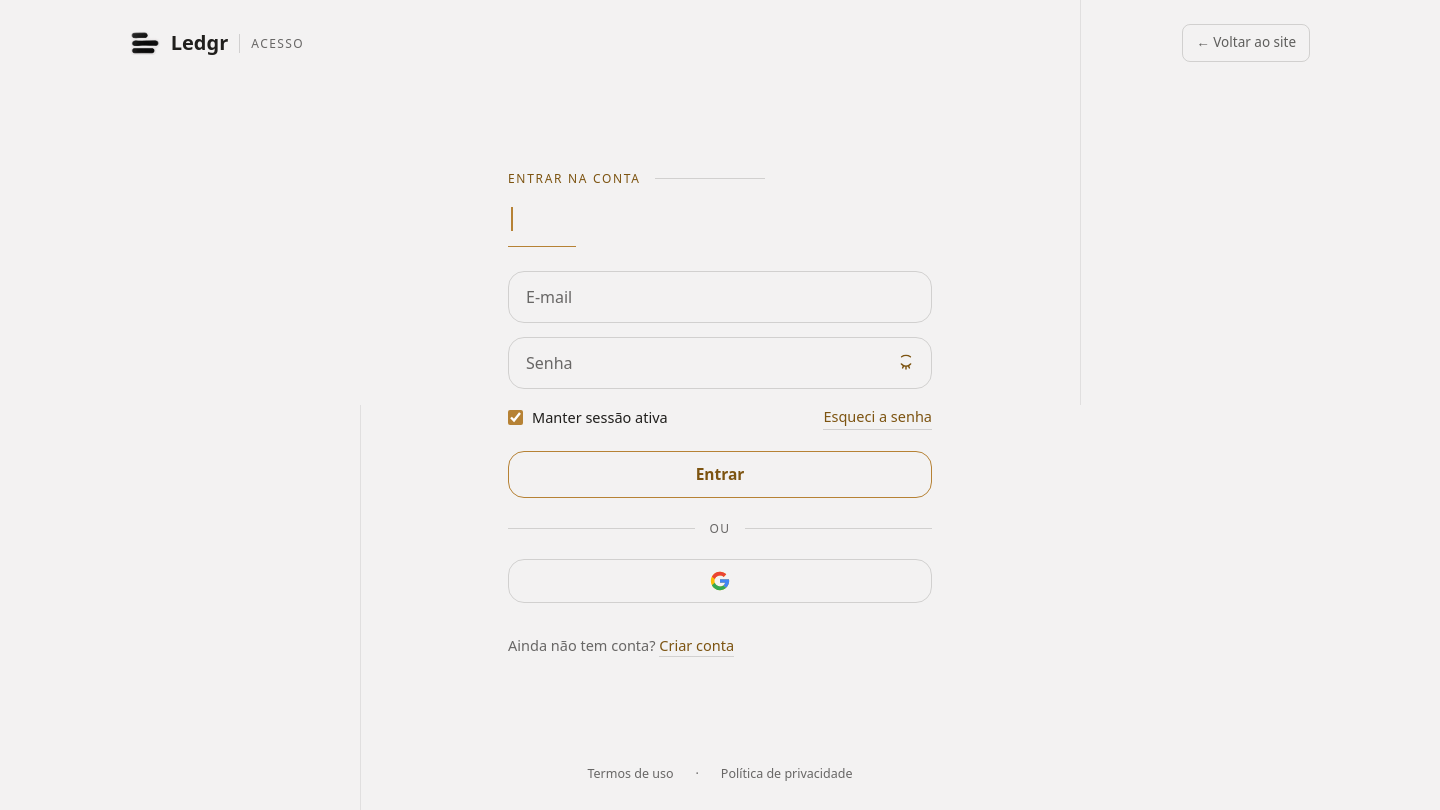
Test: LoginPage › goes to Google when Google sign-in is on
This screenshot has width=1440, height=810.
Click the button named "Entrar com Google" at [720, 581], box top-left (508, 559), bottom-right (932, 603)
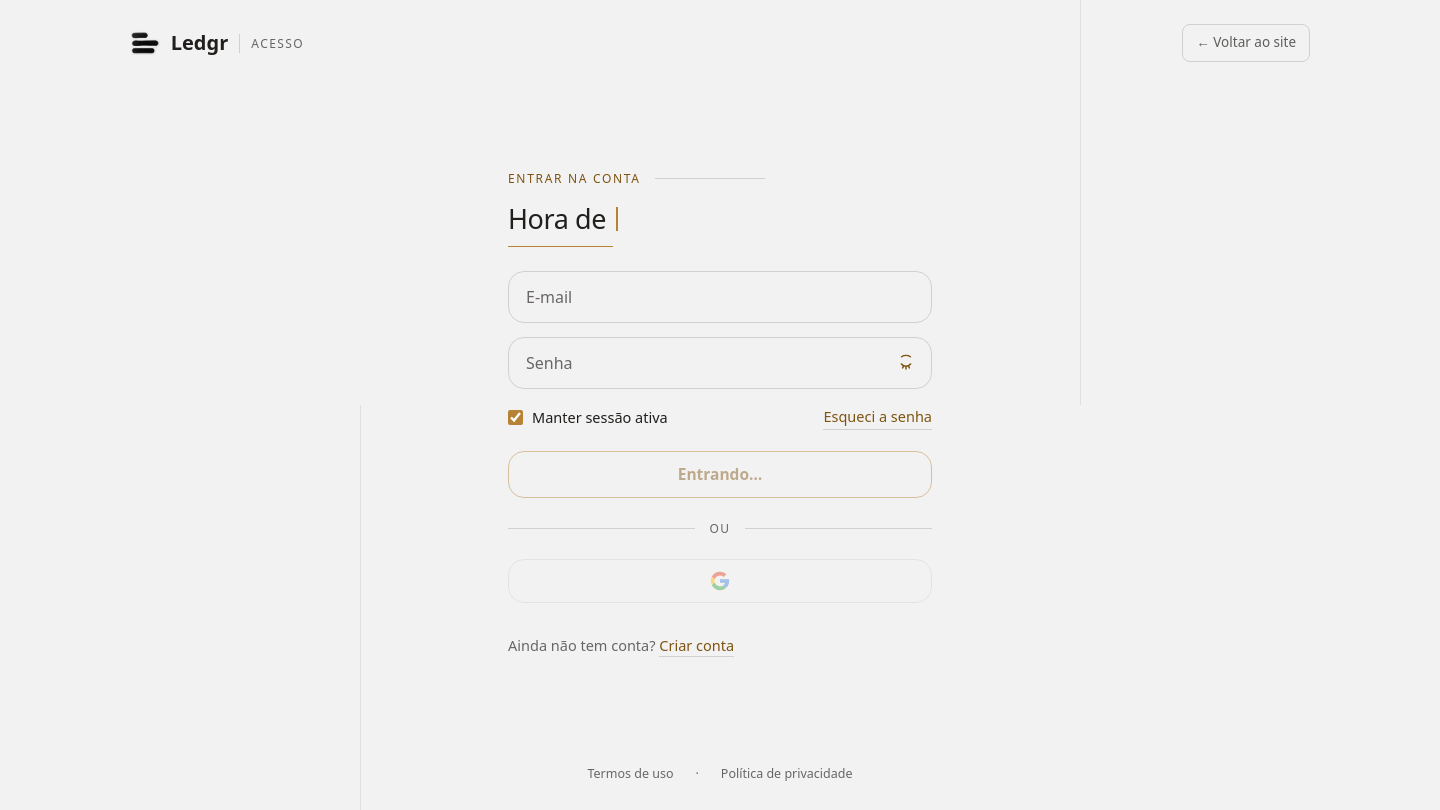
Now the button named "Entrar com Google" is disabled, box top-left (508, 559), bottom-right (932, 603)
